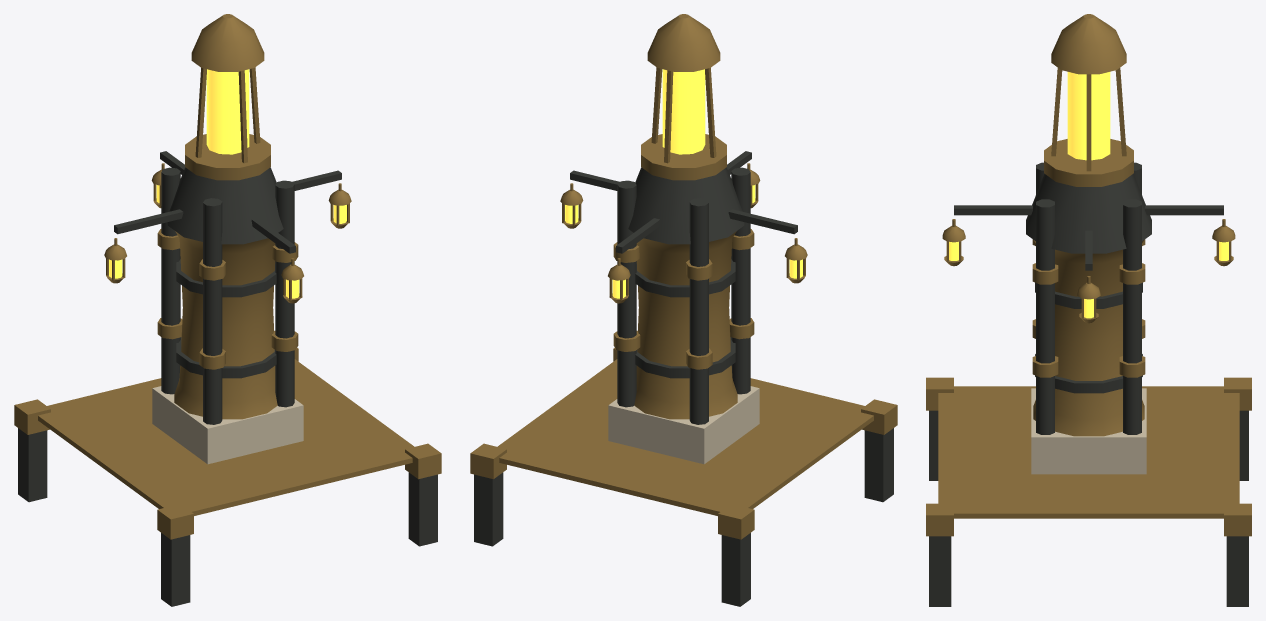
The model's file is monument.glb.
3 views of the same model, side by side, from view 1: azimuth 30°, elevation 25°; view 2: azimuth 150°, elevation 25°; view 3: azimuth 270°, elevation 25° (orthographic). The views are drawn at different scales.
Parts seen in each view (by area): view 1: monument; view 2: monument; view 3: monument.
Part boxes in pixels (x1,y1,x2,y2): monument: (14,14,441,606); monument: (470,14,897,606); monument: (926,14,1251,606).
Size of the model in its own units: 3.5 by 6.2 by 3.5.
